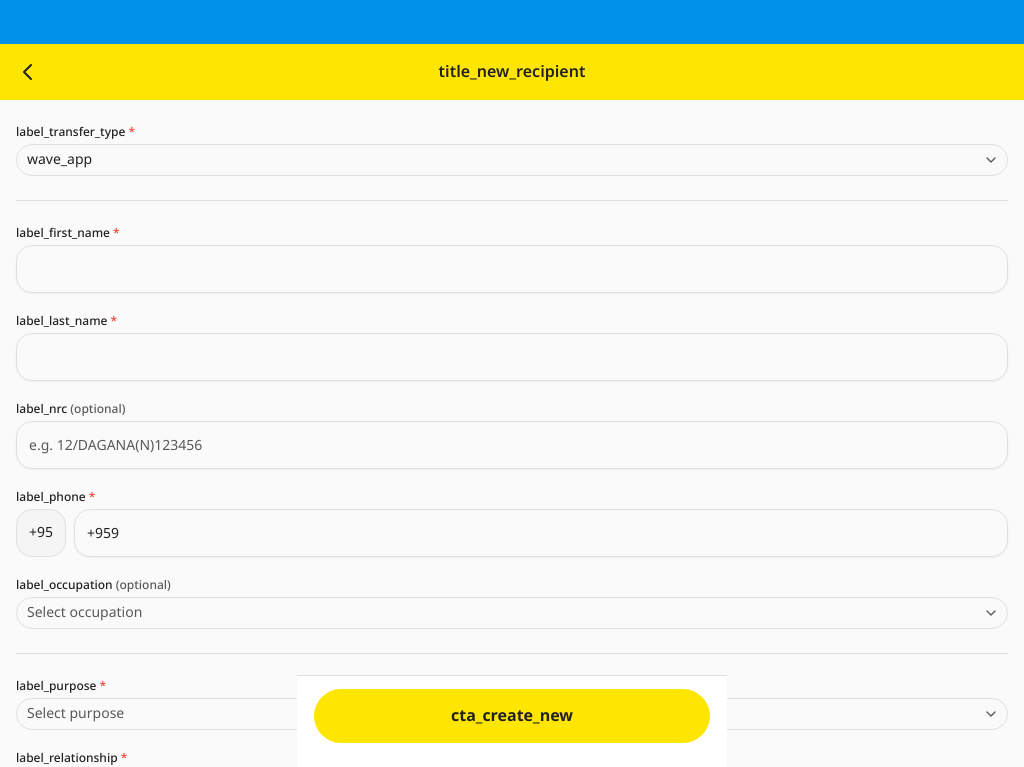
it: NewRecipientPage › shows first_name validation error on empty first name
// Ensure first_name is empty and submit
Clear the field labelled "label_first_name *": (512, 269) [16, 245, 1008, 293]
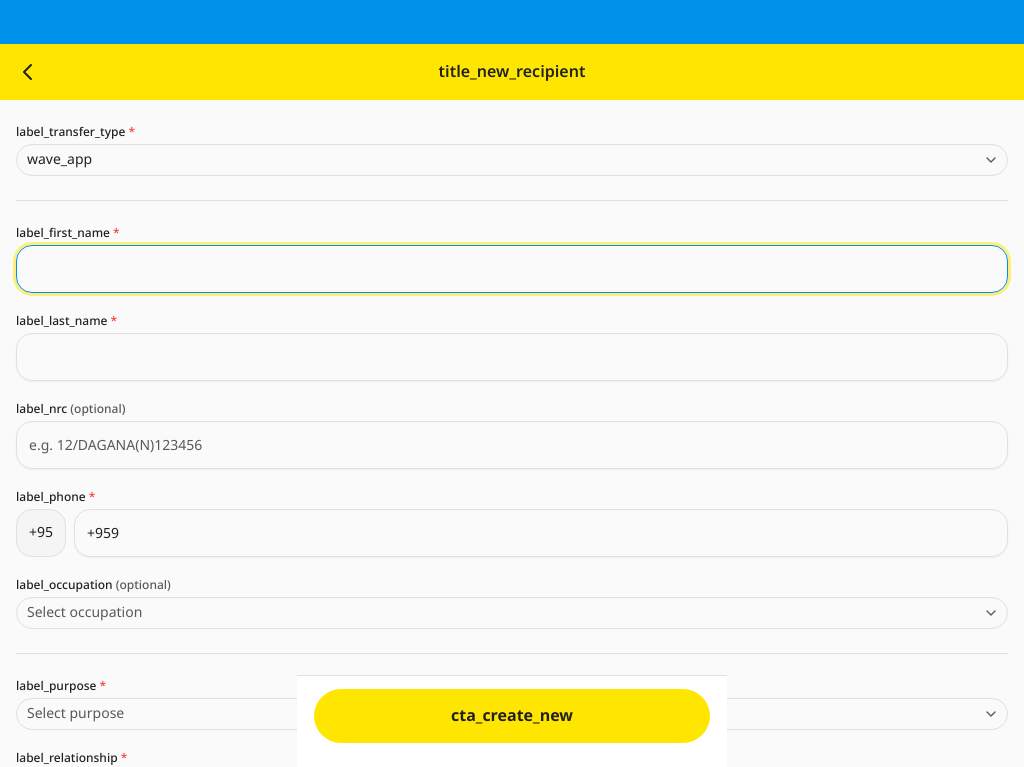
Click the button "cta_create_new": (512, 716) [313, 688, 711, 744]
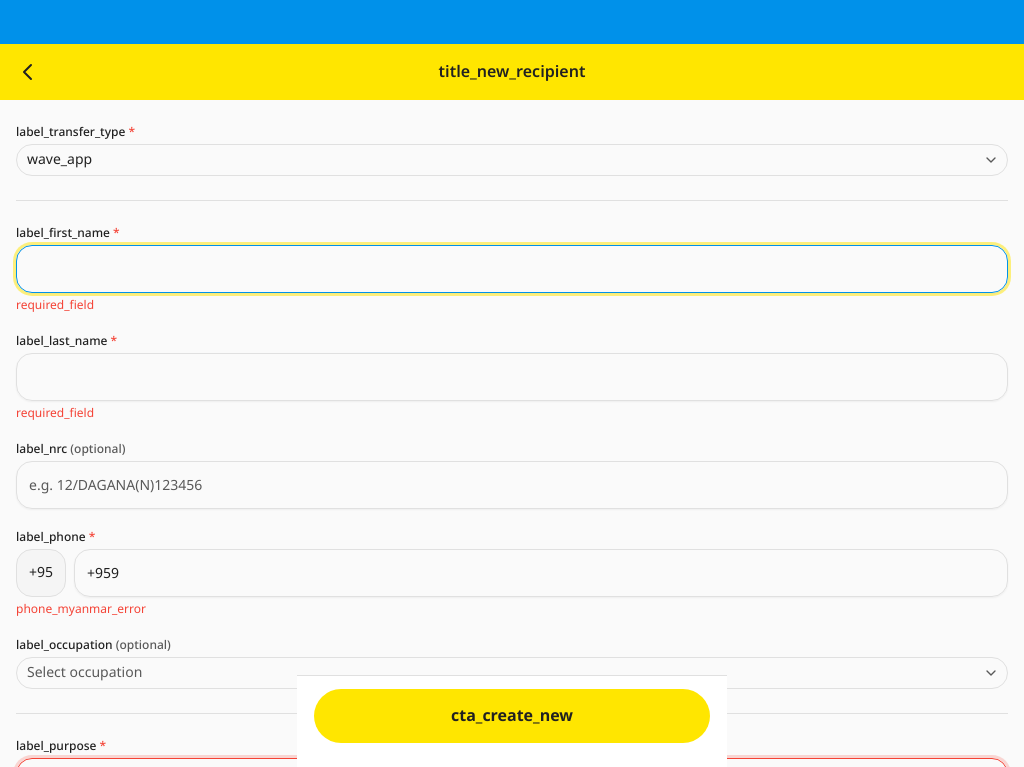
Check: the text "required_field" below "label_first_name" is shown, box [16, 296, 94, 314]
